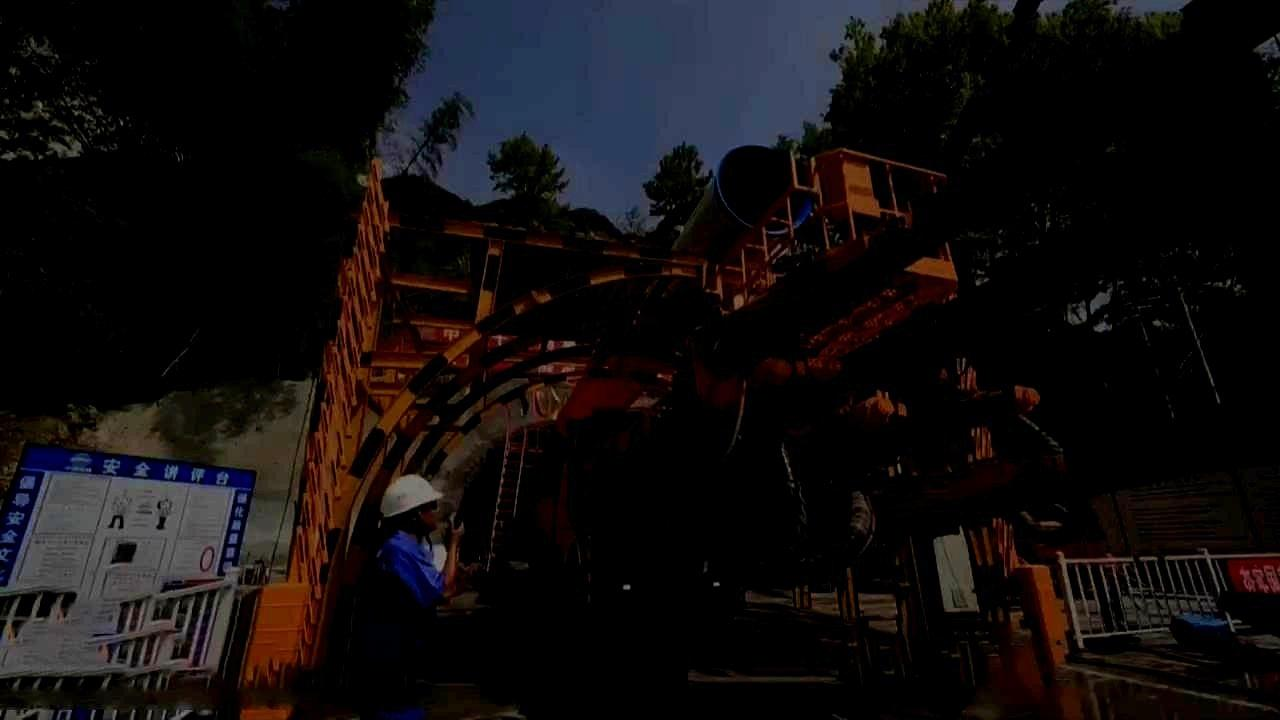helmet: (379, 472, 445, 534)
